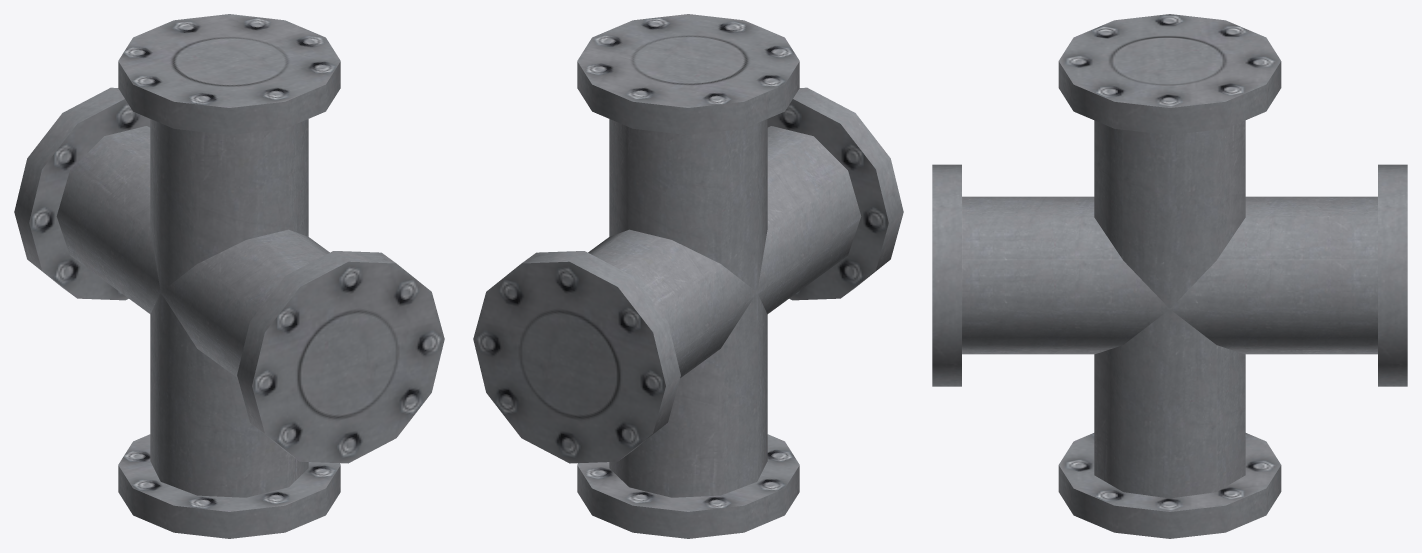
File: p_cross_joint.FBX
3 views of the same model, side by side, from view 1: azimuth 30°, elevation 25°; view 2: azimuth 150°, elevation 25°; view 3: azimuth 270°, elevation 25° (orthographic).
Parts seen in each view (by area): view 1: Cylinder022; view 2: Cylinder022; view 3: Cylinder022.
Boxes of the visible parts, x1=… form: Cylinder022: x1=14, y1=14, x2=444, y2=538; Cylinder022: x1=473, y1=14, x2=903, y2=538; Cylinder022: x1=932, y1=14, x2=1407, y2=538.
Size of the model in its own units: 29.97 by 64.01 by 64.01.
Materials: 1 (1 with a texture image).
